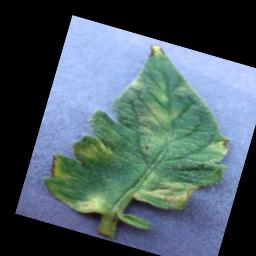Leaf_Mold: (144, 171, 198, 208), (65, 185, 113, 220), (208, 132, 233, 155), (47, 154, 66, 177), (146, 42, 167, 61)
